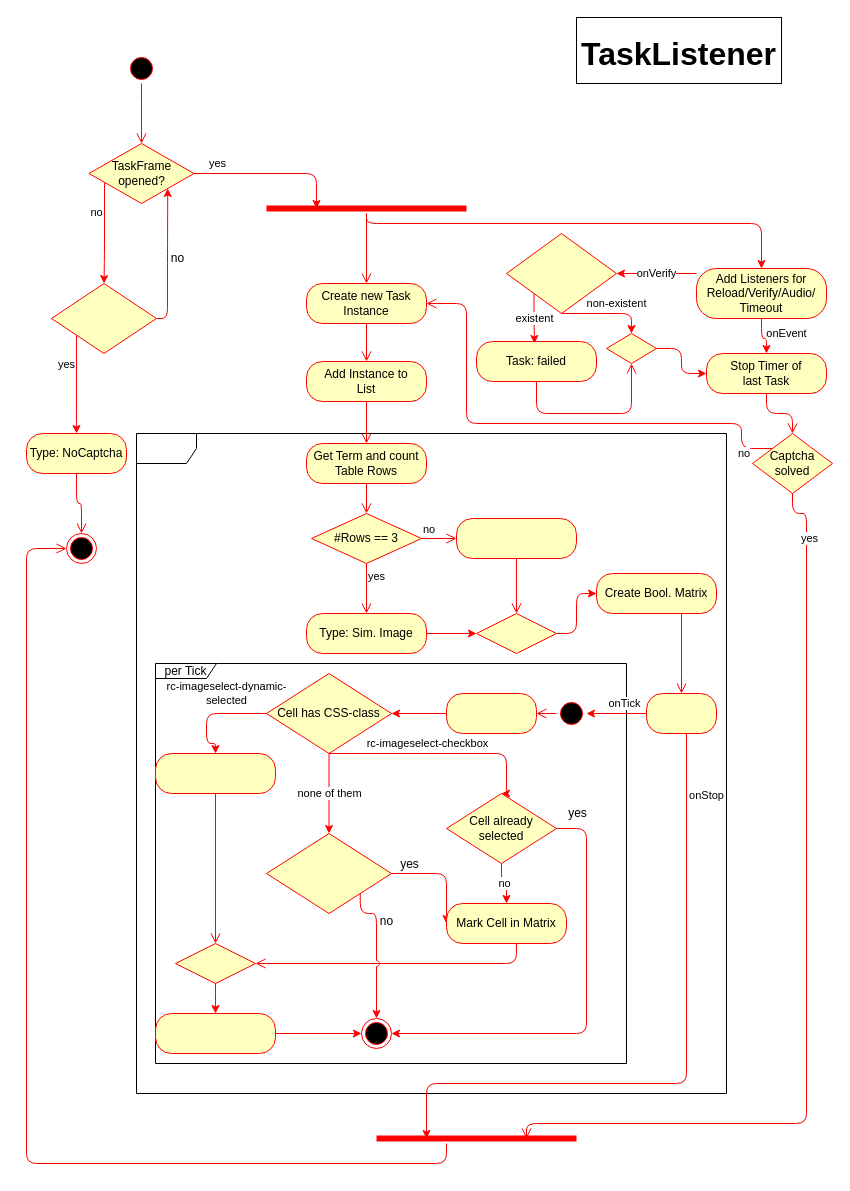
Image size: 850x1191. Some labels were removed from this diagram. The shapes that lost their labels are listed below. From the top down, each one's box as (x1, y1, x2, y2) in pixels, then its label:
(506, 232, 616, 314): Failure Message
(50, 282, 156, 354): Captcha solved?
(456, 518, 576, 558): Type: Obj. Ident.
(446, 692, 536, 734): Get each cell
(646, 692, 716, 734): Start Timer
(154, 752, 276, 794): Type: Dyn. Sim. Image
(136, 432, 726, 1094): Task
(266, 832, 392, 914): cell marked?
(154, 1012, 276, 1054): Add Event and Time to List
